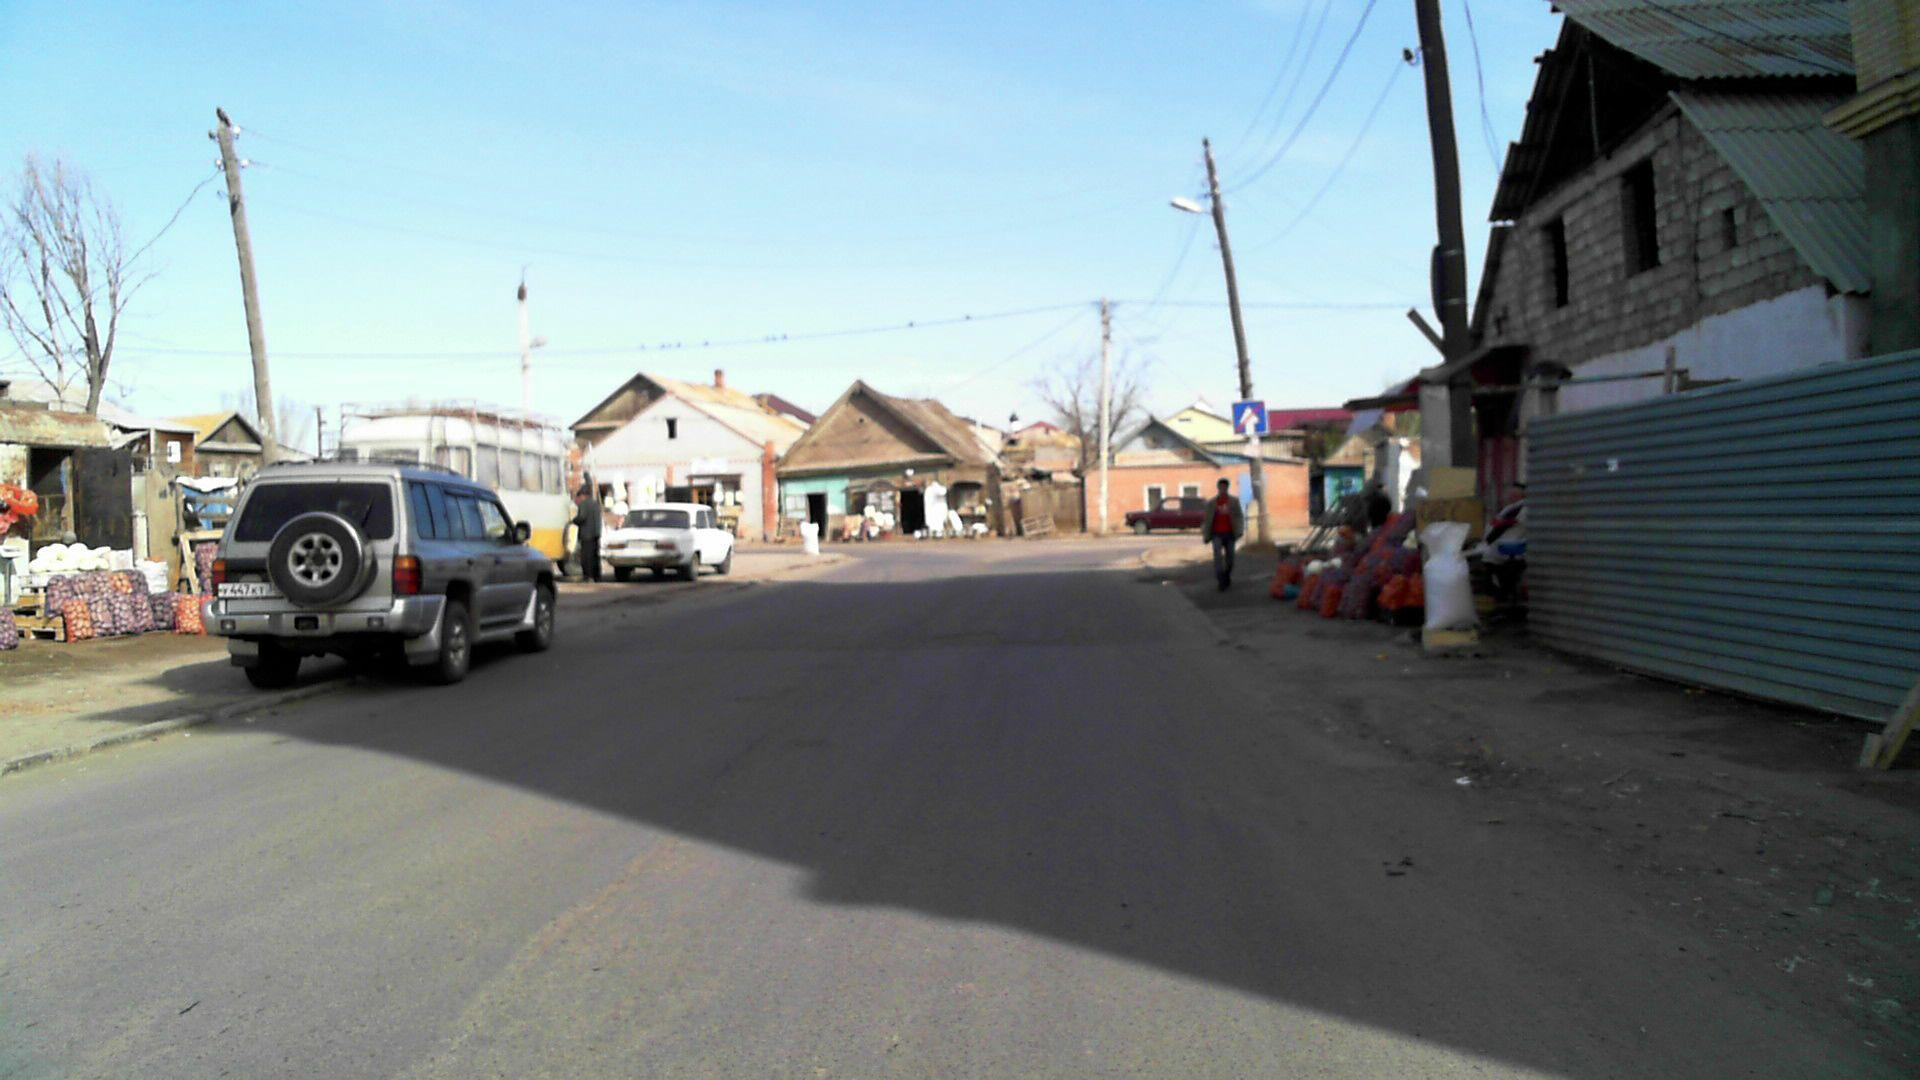5_6: (1232, 400, 1269, 436)
